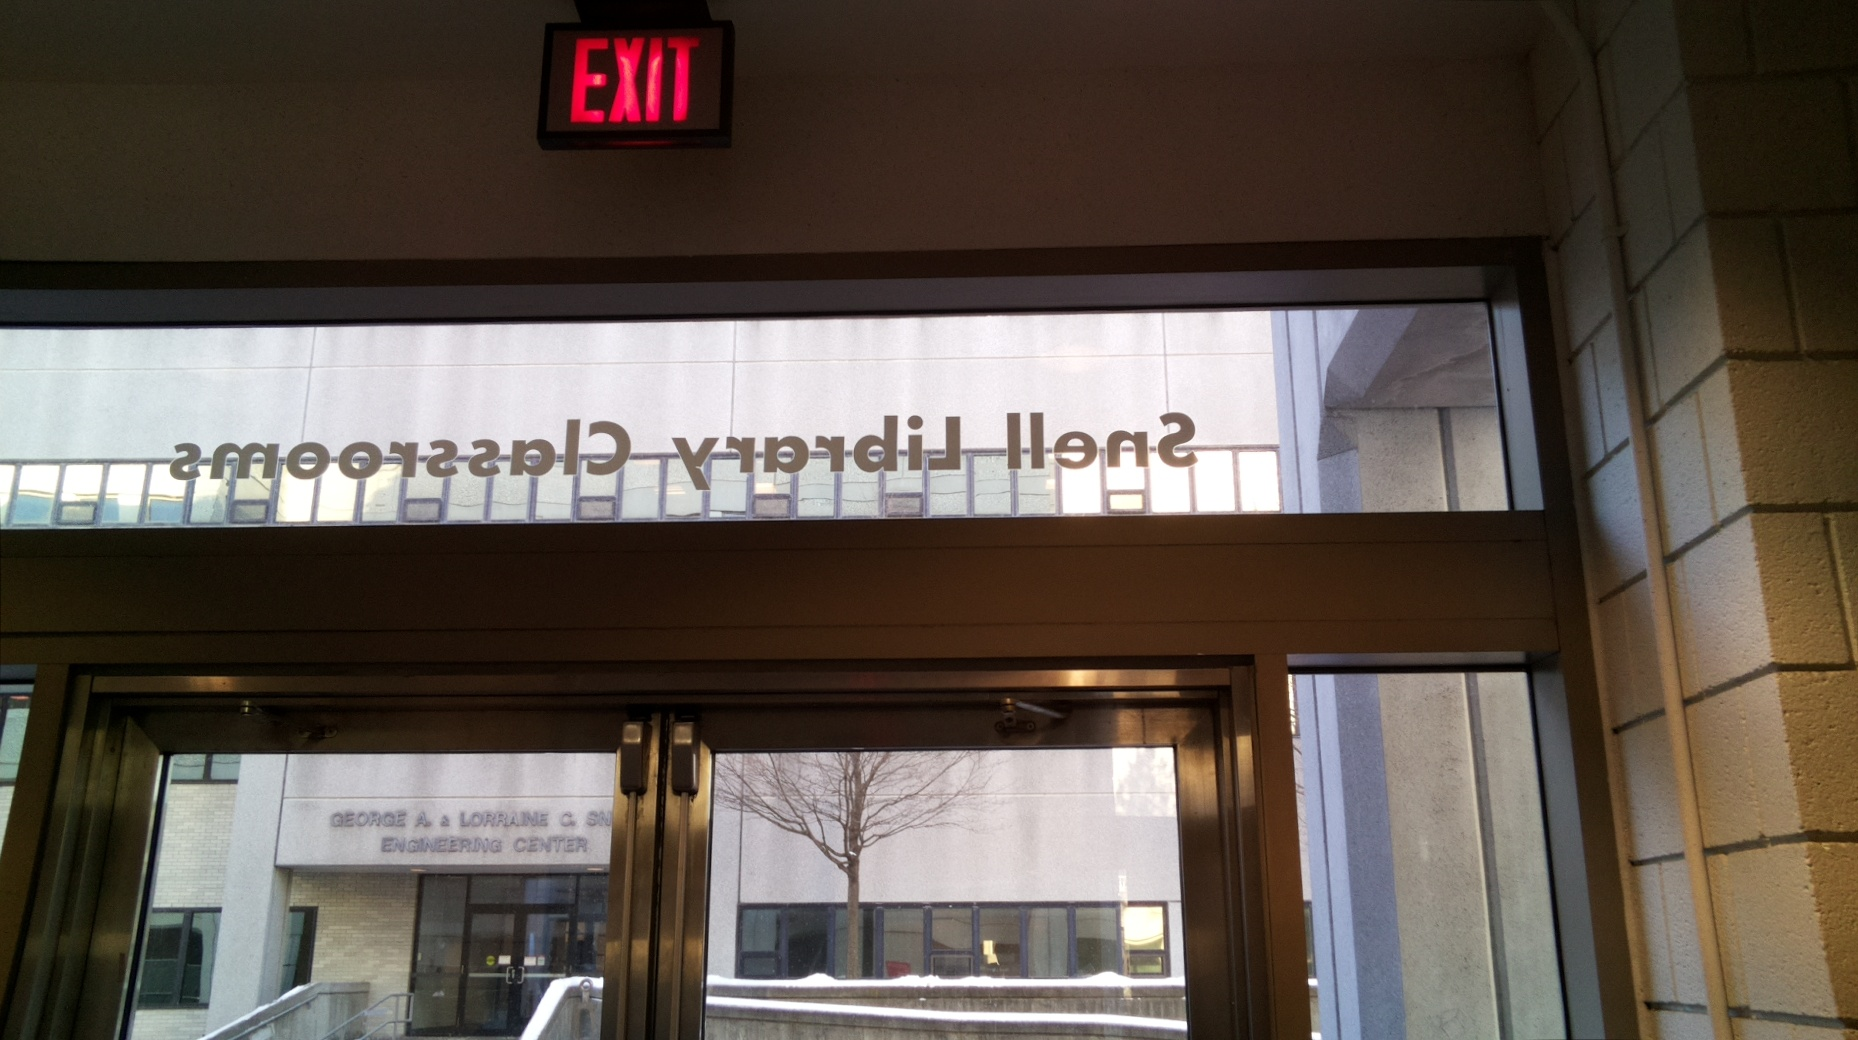exit sign: (532, 19, 738, 149)
